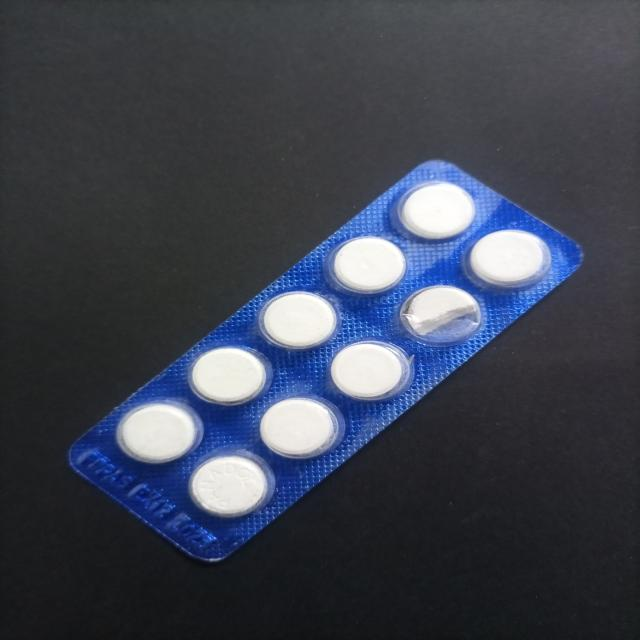defect: (398, 282, 486, 347)
